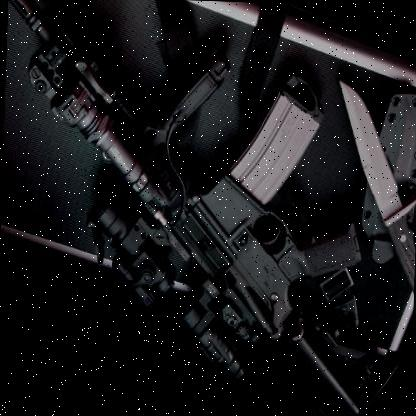rifle: (0, 0, 410, 411)
